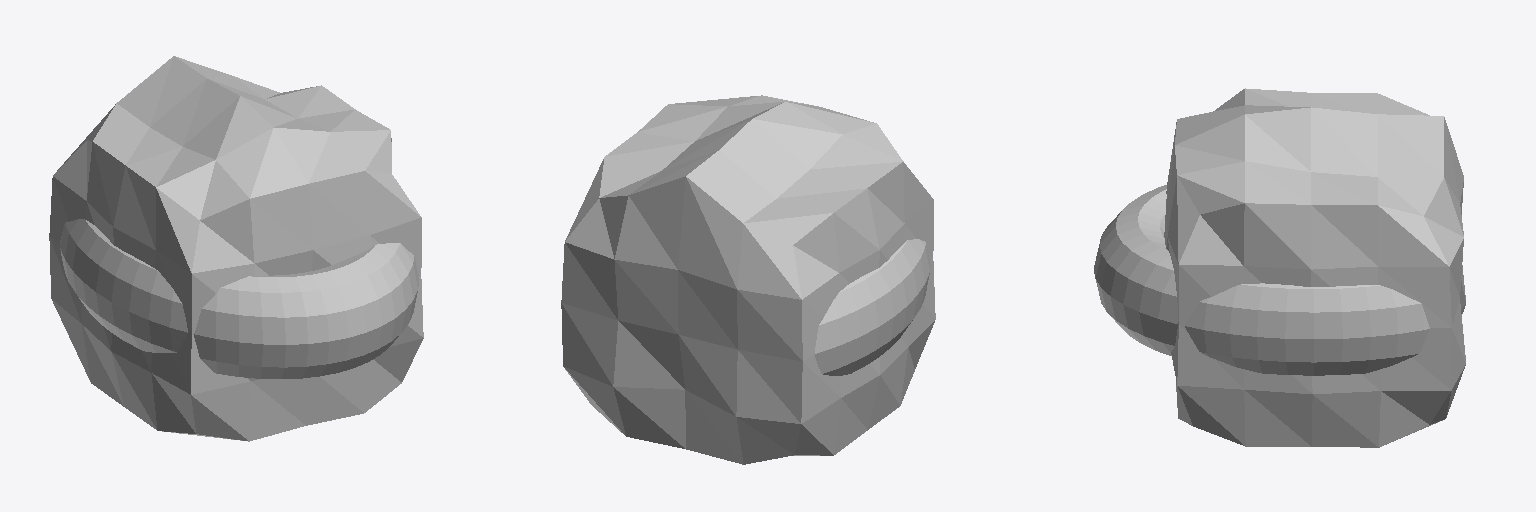
Rendered from engine.obj.
The picture shows the model from 3 angles: view 1: azimuth 30°, elevation 25°; view 2: azimuth 150°, elevation 25°; view 3: azimuth 270°, elevation 25°; orthographic projection.
Visible parts, largest first — view 1: Cube_Cube.001, Torus; view 2: Cube_Cube.001, Torus; view 3: Cube_Cube.001, Torus.
Boxes of the visible parts, <box> form: Cube_Cube.001: <box>49,56,423,441</box>; Torus: <box>60,219,419,378</box>; Cube_Cube.001: <box>561,95,935,464</box>; Torus: <box>815,239,930,375</box>; Cube_Cube.001: <box>1164,88,1465,447</box>; Torus: <box>1094,185,1429,375</box>.
Bounding box in the file's own units: 0.75 × 0.7437 × 0.8455.